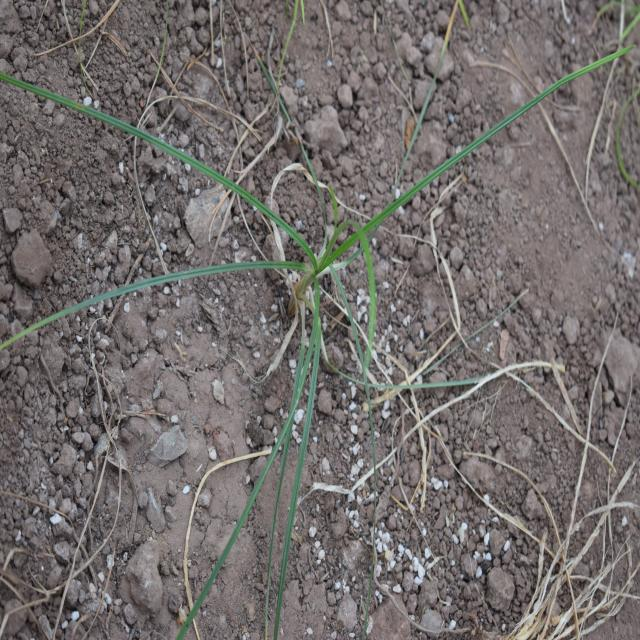sedge: (148, 72, 416, 603)
